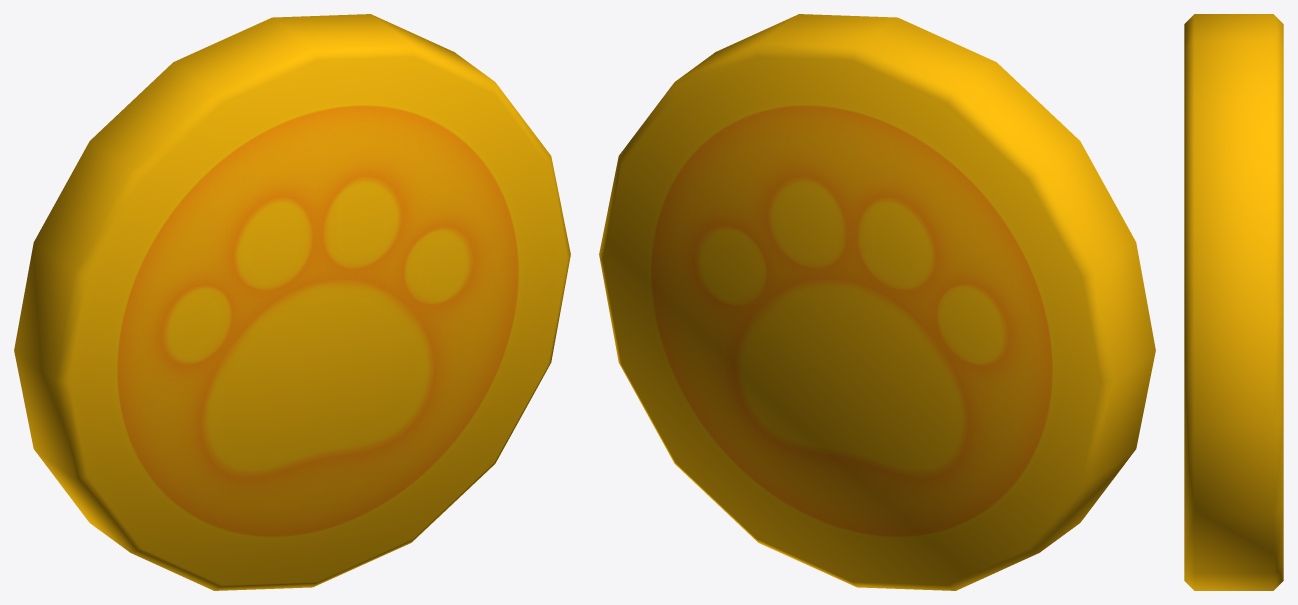
The model's file is Coin_Pet_Gold.FBX.
3 views of the same model, side by side, from view 1: azimuth 30°, elevation 25°; view 2: azimuth 150°, elevation 25°; view 3: azimuth 270°, elevation 25° (orthographic). The views are drawn at different scales.
Parts seen in each view (by area): view 1: Coin_Pet_Gold; view 2: Coin_Pet_Gold; view 3: Coin_Pet_Gold.
Boxes of the visible parts, bbox=[...] form: Coin_Pet_Gold: bbox=[14, 14, 570, 590]; Coin_Pet_Gold: bbox=[599, 14, 1155, 590]; Coin_Pet_Gold: bbox=[1184, 14, 1283, 590].
Bounding box in the file's own units: 70 × 70 × 12.
